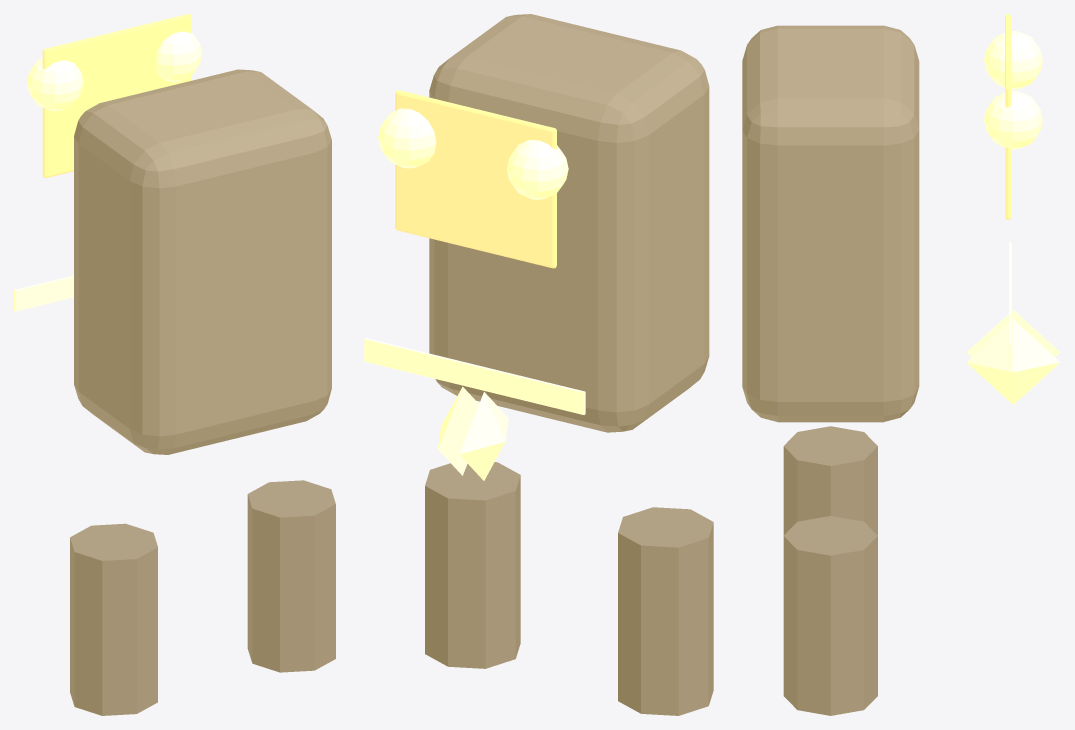
The model's file is bert.glb.
The picture shows the model from 3 angles, left to right: view 1: azimuth 30°, elevation 25°; view 2: azimuth 150°, elevation 25°; view 3: azimuth 270°, elevation 25°; orthographic projection. The views are drawn at different scales.
Visible parts, largest first — view 1: bert; view 2: bert; view 3: bert.
Part boxes in pixels (x1=…): bert: x1=14, y1=14, x2=335, y2=715; bert: x1=364, y1=14, x2=713, y2=715; bert: x1=742, y1=14, x2=1060, y2=715.
Bounding box in the file's own units: 0.52 × 1.12 × 0.54.
